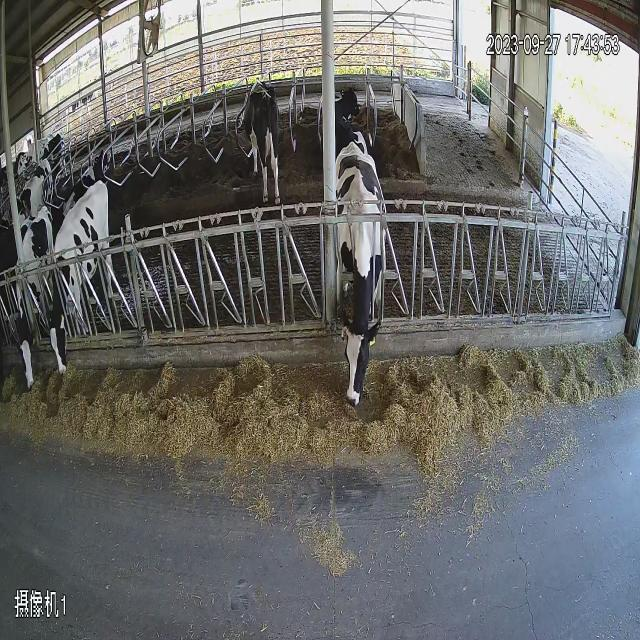feeding: (326, 124, 424, 508), (10, 173, 111, 490)
lying down: (318, 55, 386, 173)
standing: (4, 125, 62, 231)
